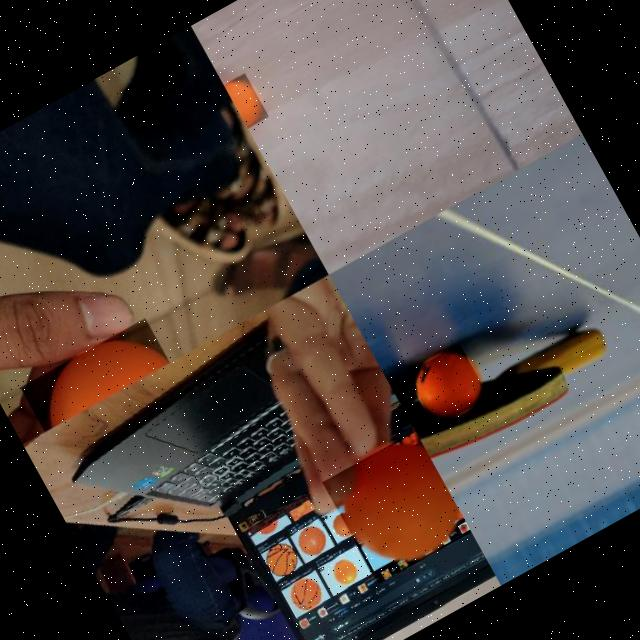ping-pong-ball: (320, 430, 470, 584), (20, 316, 172, 432), (406, 342, 491, 427), (223, 72, 270, 128)
